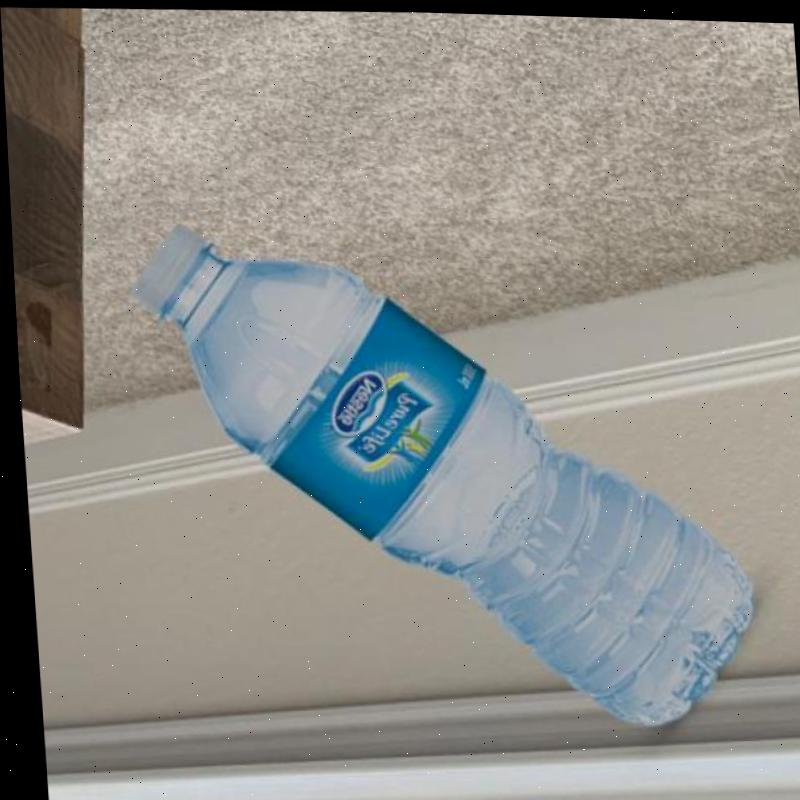botella: (122, 211, 758, 731)
